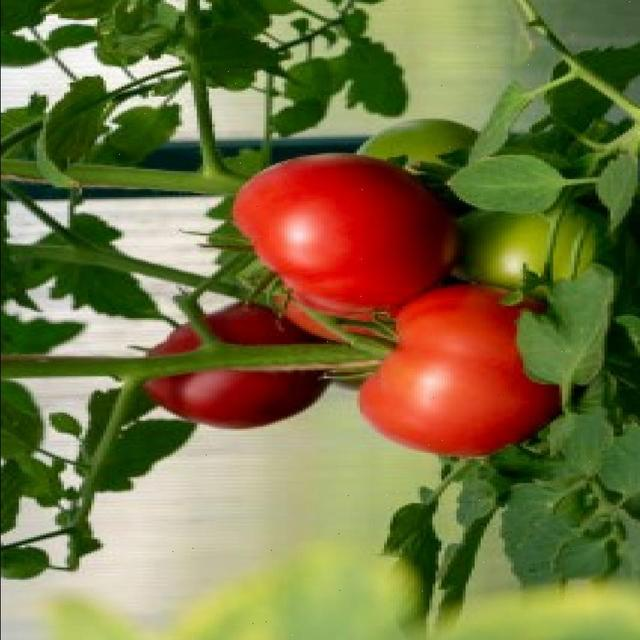Healthy Fruit: (115, 91, 312, 247)
